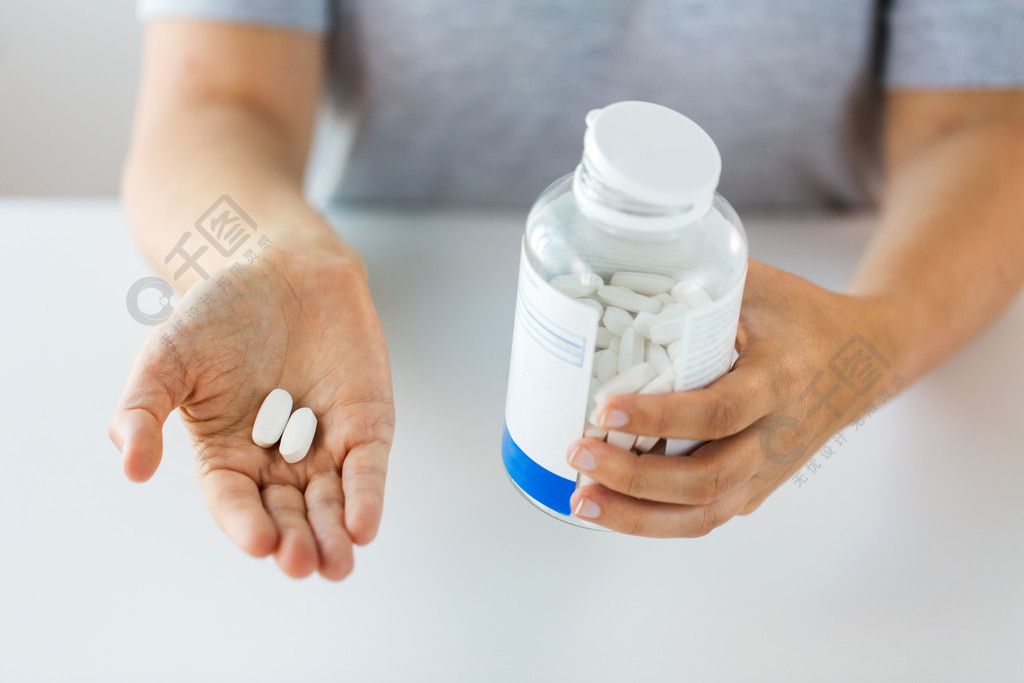no-phone: (493, 86, 899, 547)
